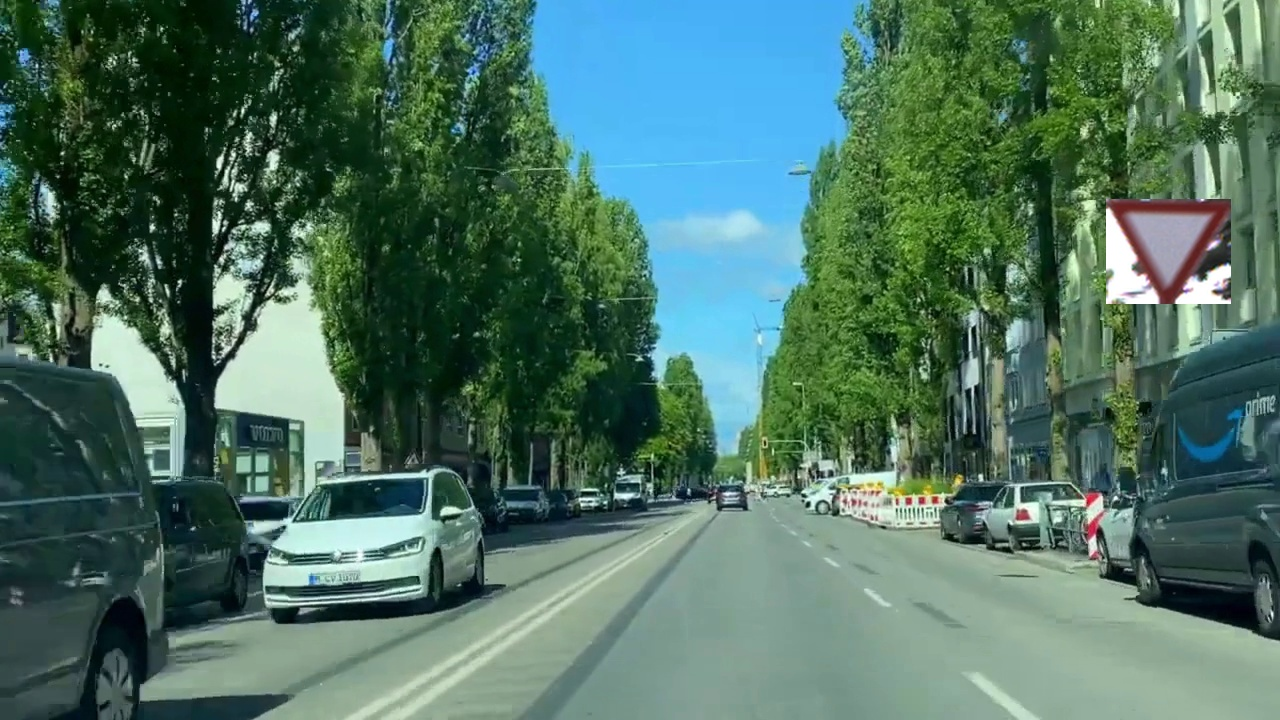Yield: (1106, 199, 1231, 304)
